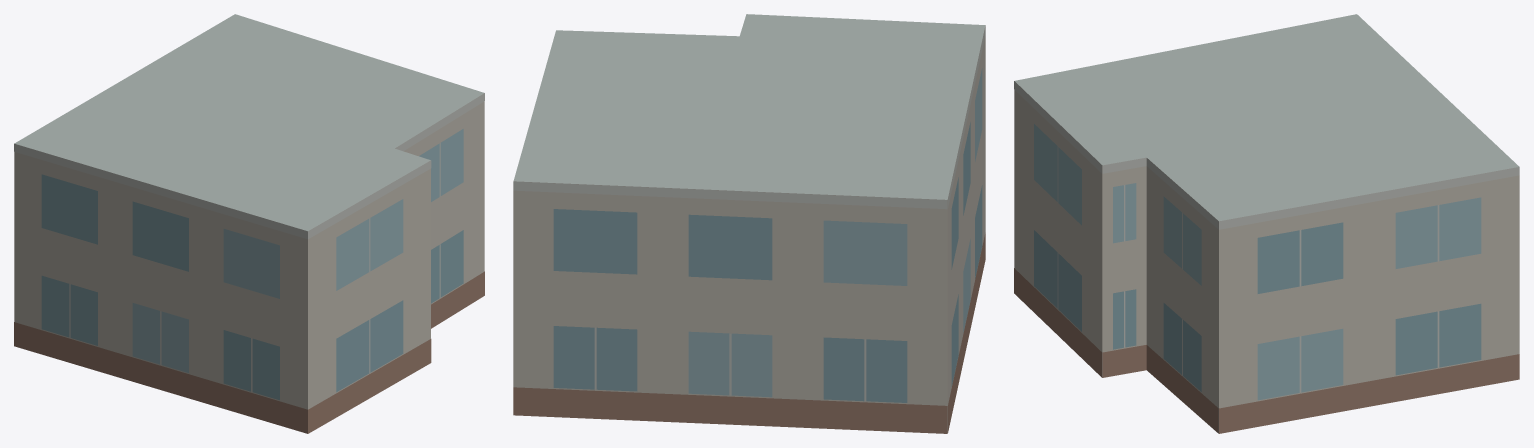
Rendered from survey-upis-32669459.glb.
3 renders of one model, left to right at view 1: azimuth 30°, elevation 25°; view 2: azimuth 150°, elevation 25°; view 3: azimuth 270°, elevation 25°, orthographic. The views are drawn at different scales.
Parts seen in each view (by area): view 1: survey-upis-32669459.tmp; view 2: survey-upis-32669459.tmp; view 3: survey-upis-32669459.tmp.
Part boxes in pixels (x1=…): survey-upis-32669459.tmp: x1=14, y1=14, x2=484, y2=433; survey-upis-32669459.tmp: x1=513, y1=14, x2=985, y2=433; survey-upis-32669459.tmp: x1=1014, y1=14, x2=1519, y2=433.
Size of the model in its own units: 12.77 by 6.1 by 13.15.
